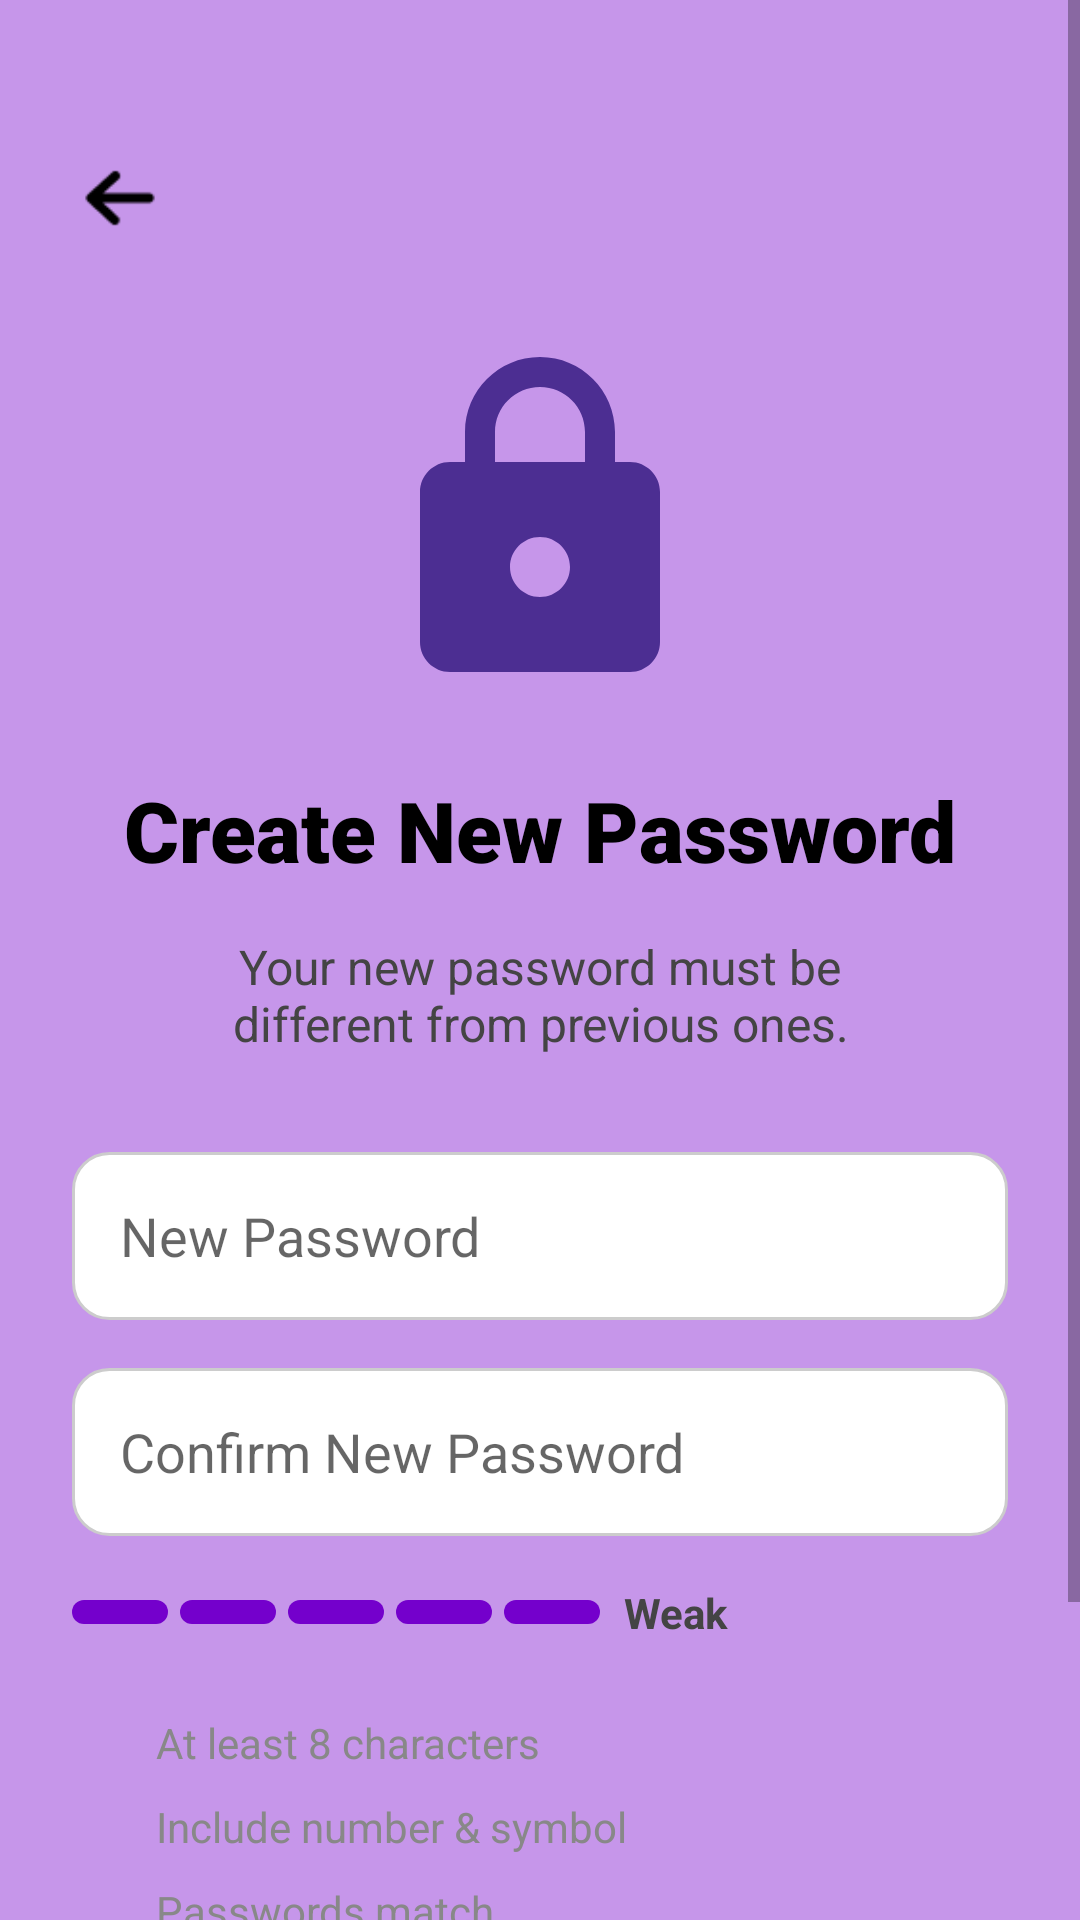

Screen size 1080w x 1920h. Icon name, then its box in pixels as {"left": x1, "top": y1, "right": x2, "bottom": y2}:
back arrow: {"left": 85, "top": 170, "right": 155, "bottom": 226}
lock: {"left": 420, "top": 357, "right": 660, "bottom": 672}
